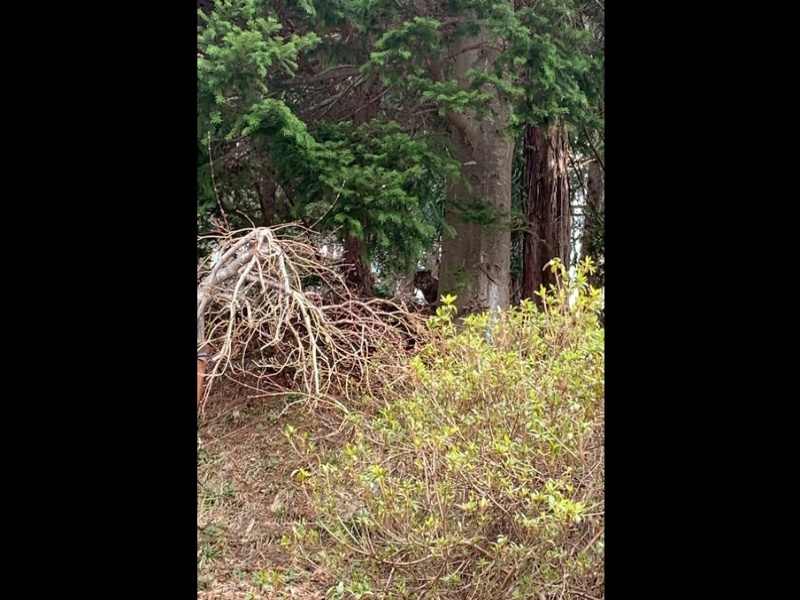cat: (412, 268, 439, 305)
